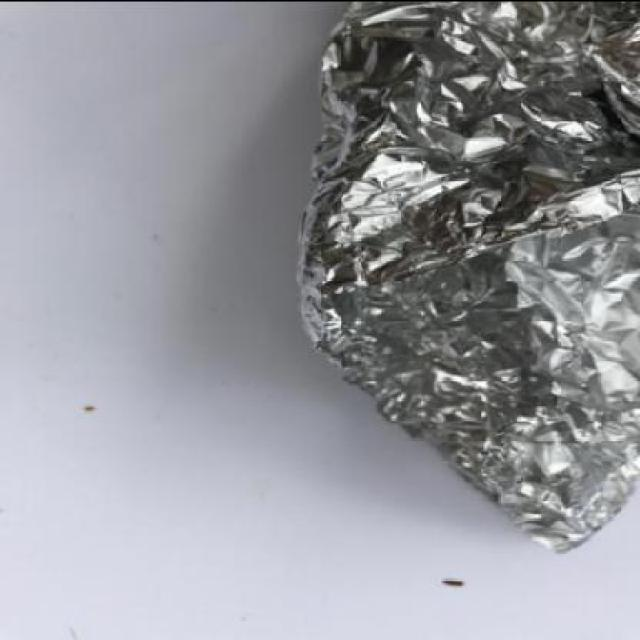METAL: (298, 1, 638, 557)
